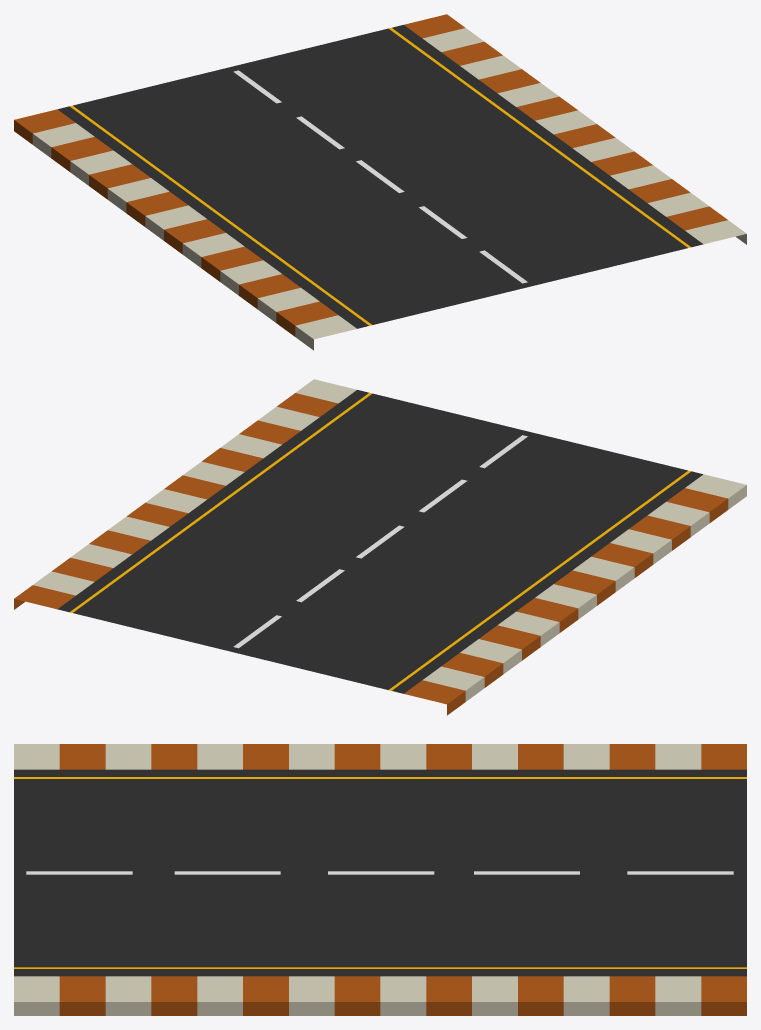
File: SM_Road_01.fbx
The picture shows the model from 3 angles, top to bottom: view 1: azimuth 30°, elevation 25°; view 2: azimuth 150°, elevation 25°; view 3: azimuth 270°, elevation 25°; orthographic projection. The views are drawn at different scales.
Visible parts, largest first — view 1: SM_Road_01_LOD0; view 2: SM_Road_01_LOD0; view 3: SM_Road_01_LOD0.
Boxes of the visible parts, x1,y1,x2,y2 form: SM_Road_01_LOD0: (14,14,746,350); SM_Road_01_LOD0: (14,379,746,715); SM_Road_01_LOD0: (14,744,746,1015).
Size of the model in its own units: 1000 by 1200 by 25.
1 material, 1 textured.
